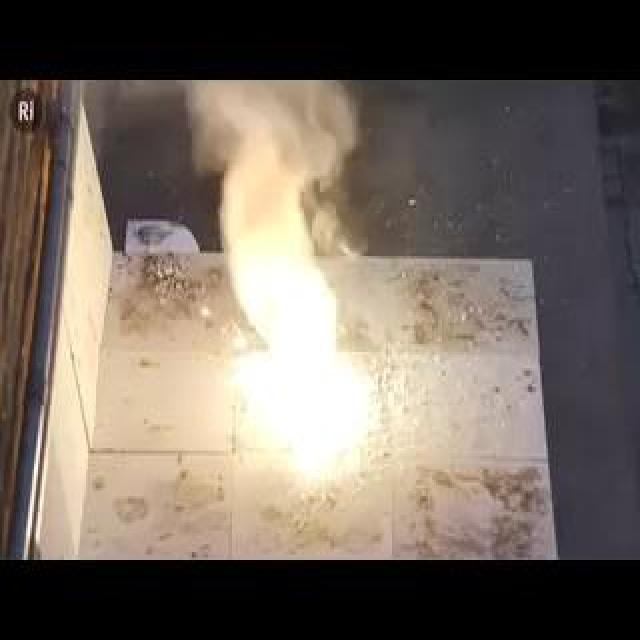Fire: (232, 355, 373, 483)
Smoke: (198, 80, 342, 354)
